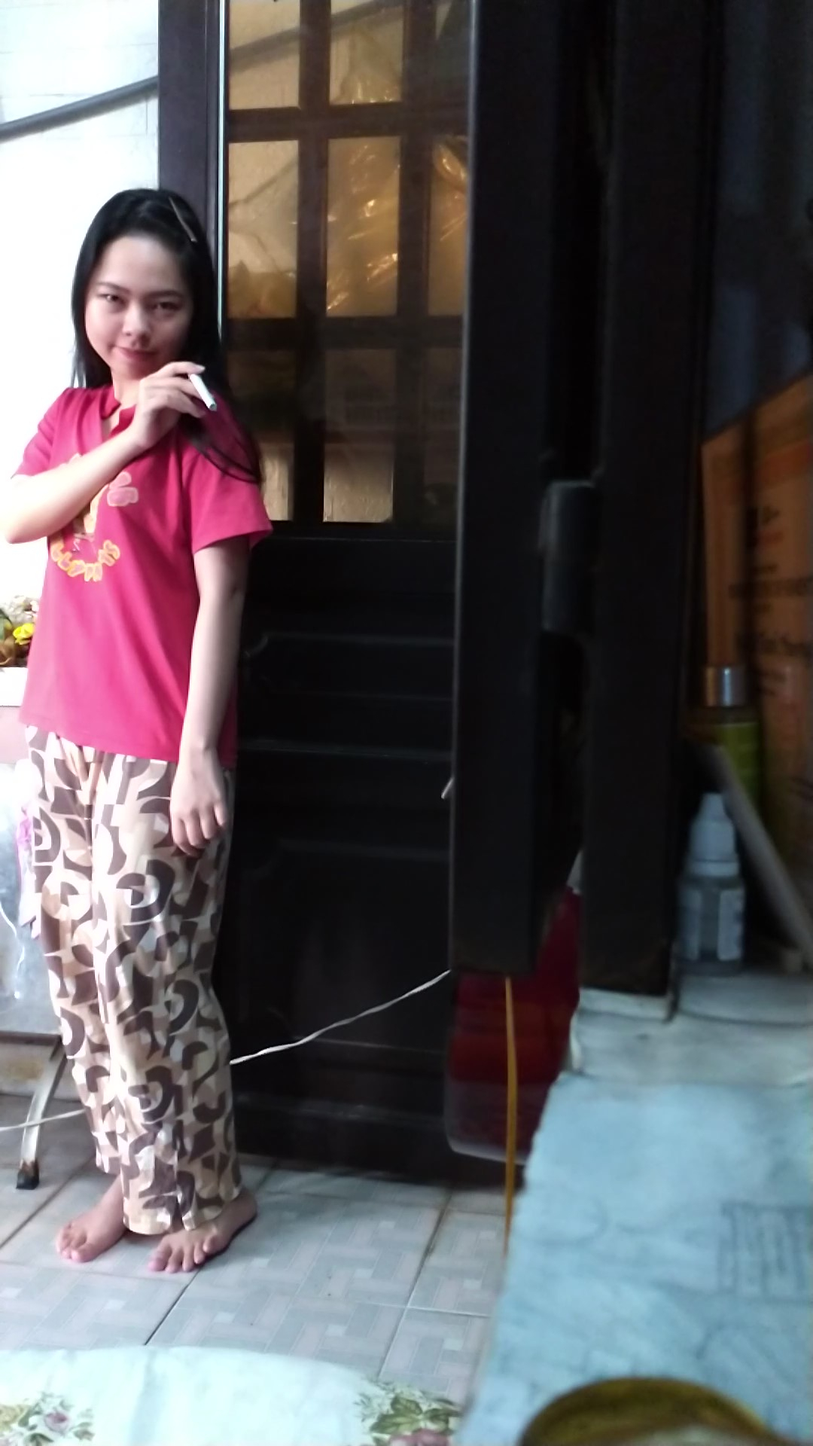cigarette: (187, 372, 219, 414)
person: (5, 170, 271, 1290)
